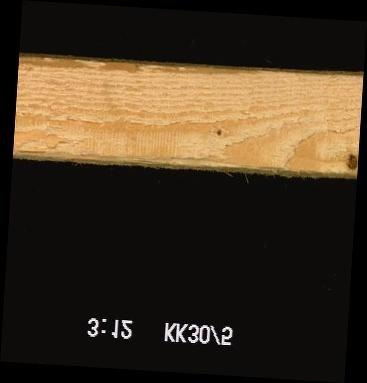dry_knot: (343, 153, 357, 173)
small_knot: (213, 127, 225, 139)
wave: (18, 58, 263, 75), (14, 154, 267, 170)
